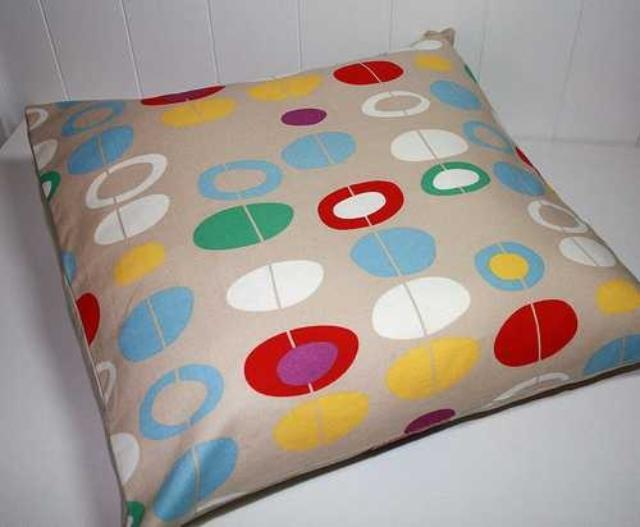pillow: (21, 26, 639, 526)
